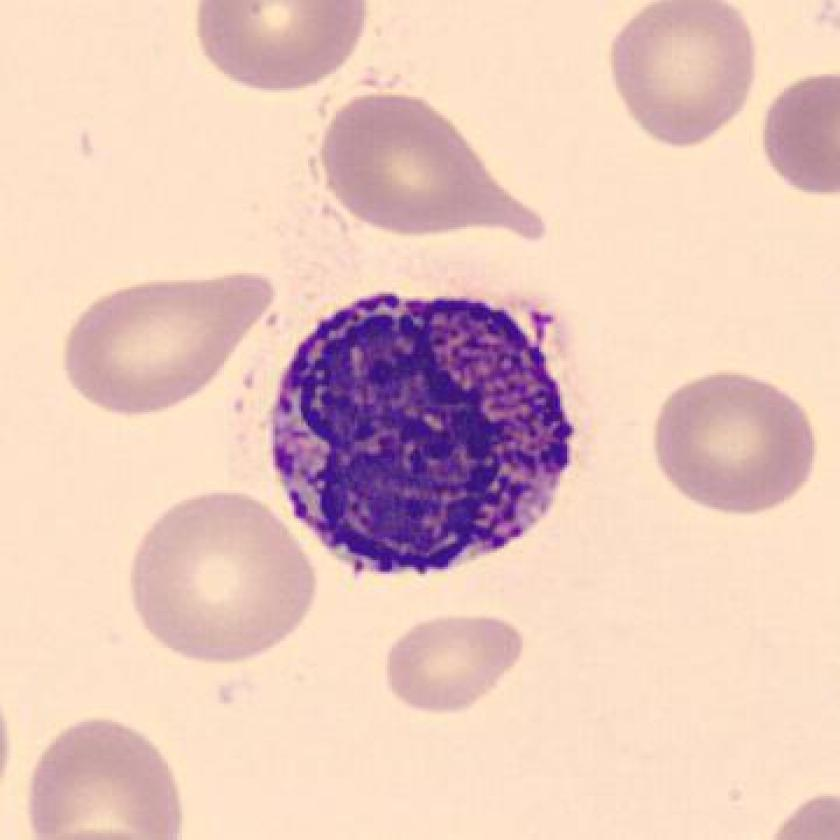basophil: (267, 286, 591, 591)
